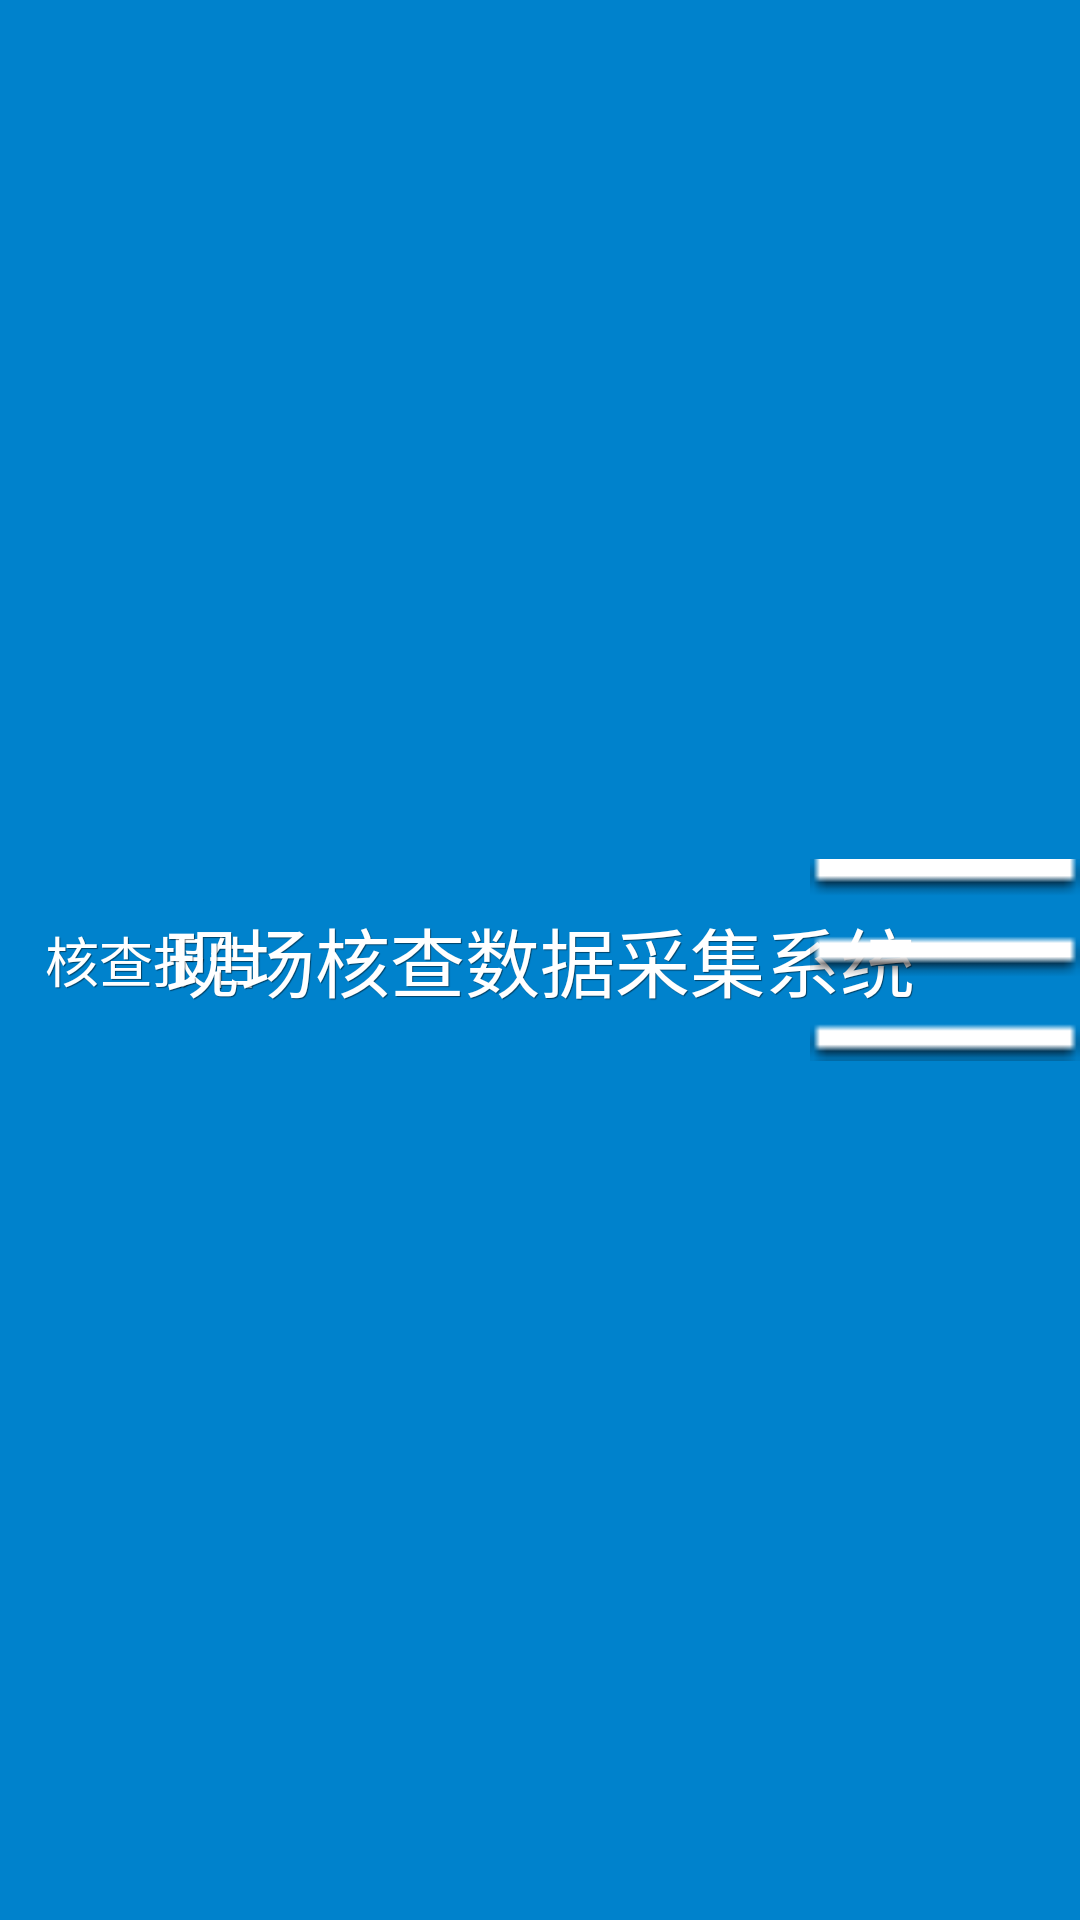

Point at icon controls on the screen. Image size 1080 × 1920, points as point (x, y).
but nav menu: point (945, 960)
